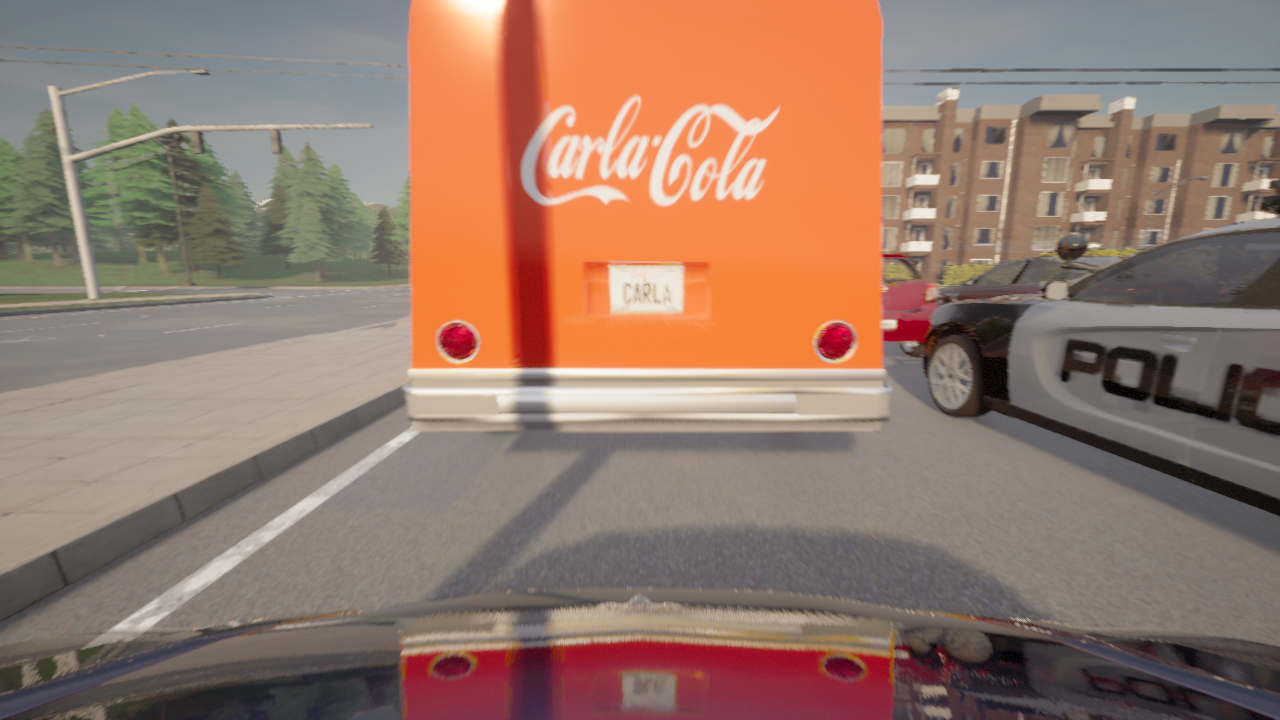cyclist: (404, 0, 893, 431), (0, 588, 1279, 719), (922, 179, 1279, 516), (938, 256, 1124, 306), (882, 253, 938, 356)
